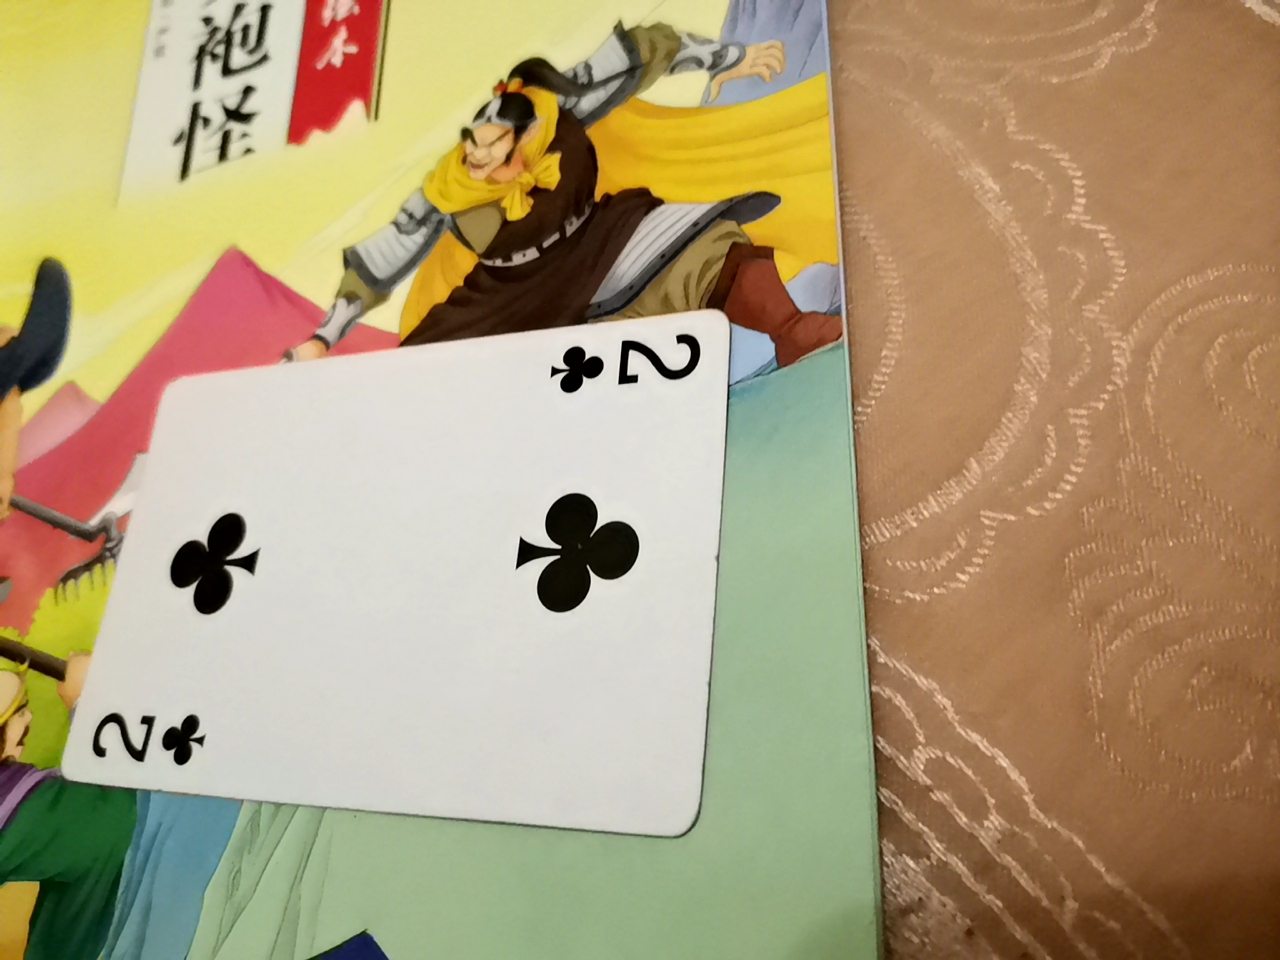mh 2: (49, 326, 739, 866)
